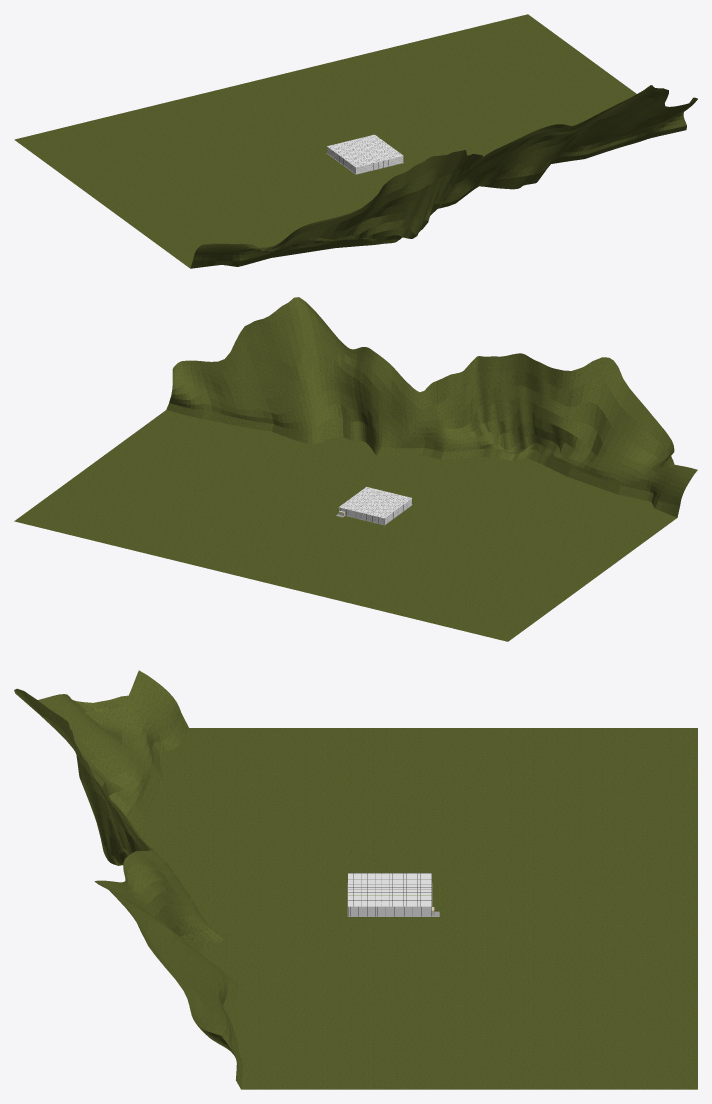
File: peng.glb
3 renders of one model, top to bottom at view 1: azimuth 30°, elevation 25°; view 2: azimuth 150°, elevation 25°; view 3: azimuth 270°, elevation 25°, orthographic. The views are drawn at different scales.
Visible parts, largest first — view 1: Cube, Glass.007, Glass.004; view 2: Cube, Glass.007; view 3: Cube, Glass.007, Glass.004.
Part boxes in pixels (x1,y1,x2,y2): Cube: (14,14,697,268); Glass.007: (327,134,403,167); Glass.004: (327,147,403,173); Cube: (14,297,697,641); Glass.007: (339,487,412,518); Cube: (14,670,697,1089); Glass.007: (348,873,431,906); Glass.004: (348,906,431,916).
Bounding box in the file's own units: 378 × 70.88 × 300.
Materials: 29 (2 with a texture image).
